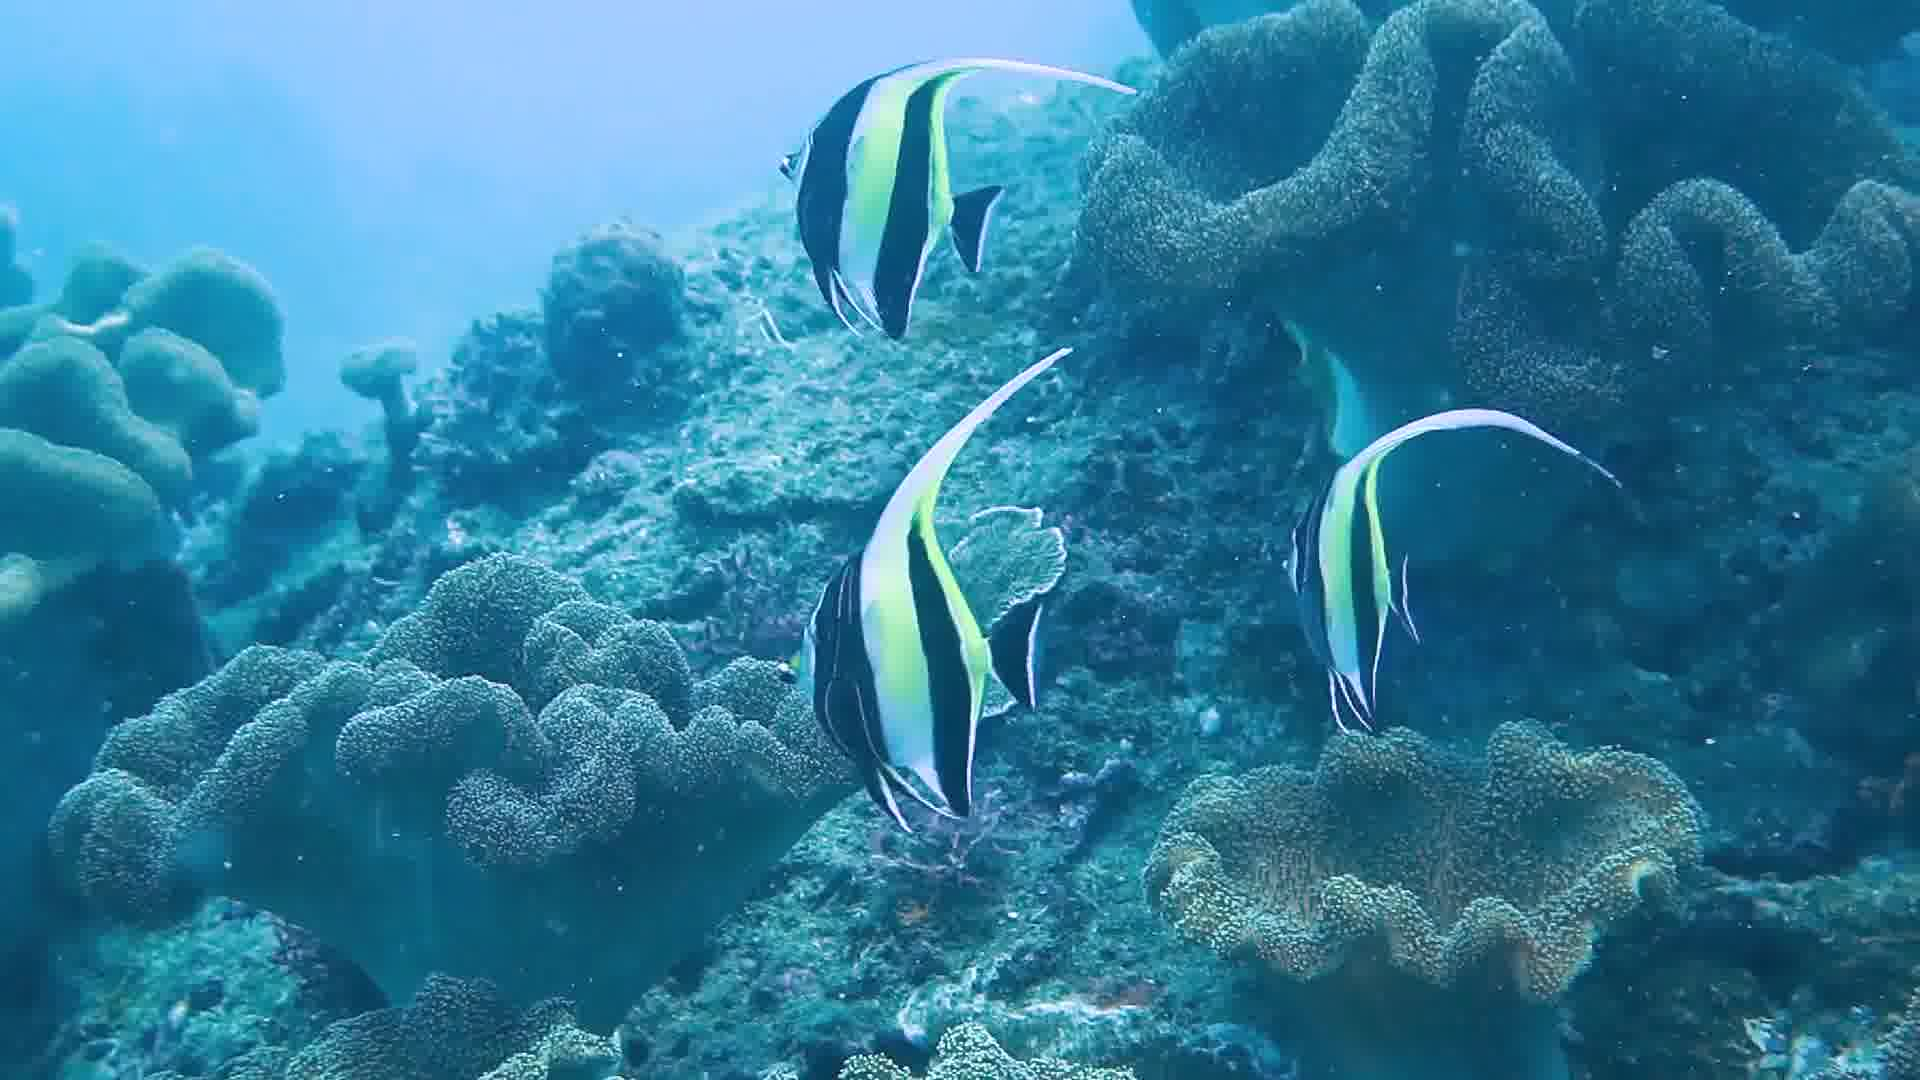Zanclus cornutus: (786, 458, 1063, 824), (754, 17, 1031, 382), (1254, 438, 1490, 735)
